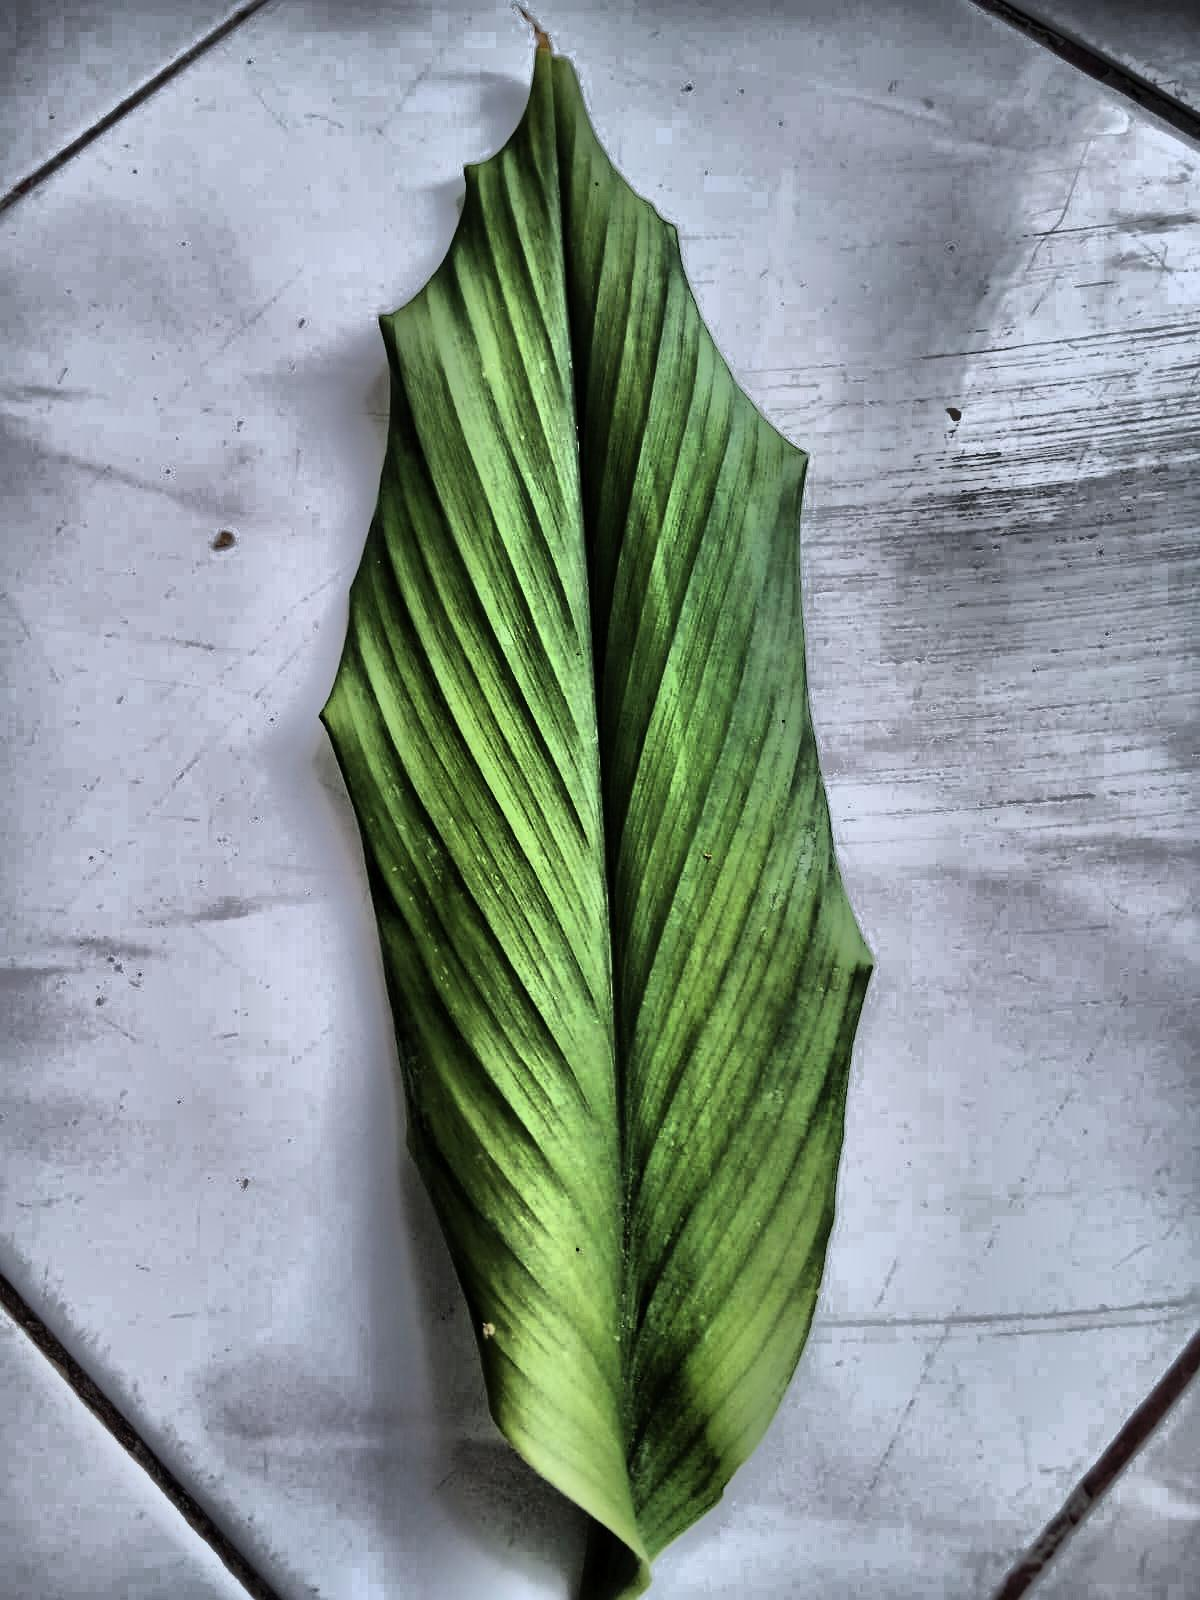daun kunyit: (321, 38, 871, 1599)
